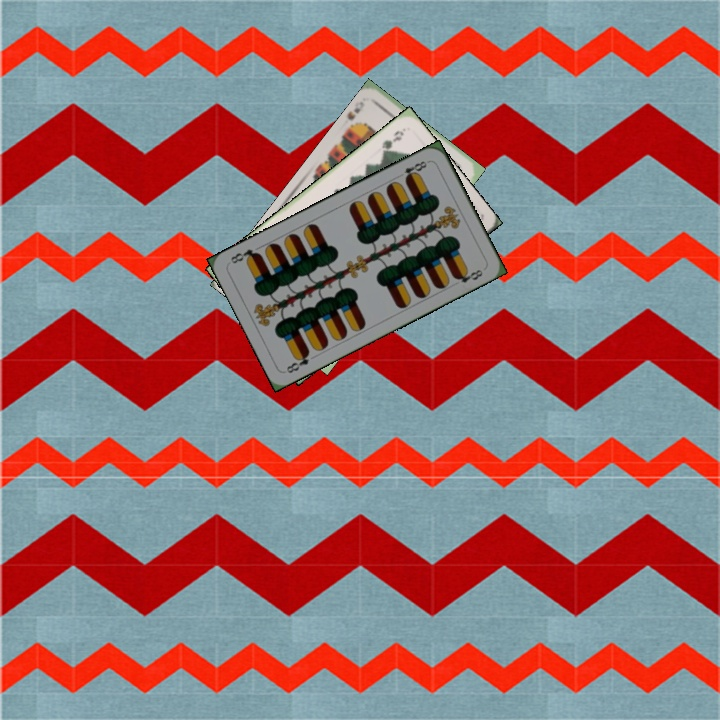E8: (393, 157, 432, 183), (282, 347, 312, 376)
G9: (378, 125, 407, 157)
S9: (343, 97, 367, 134)
